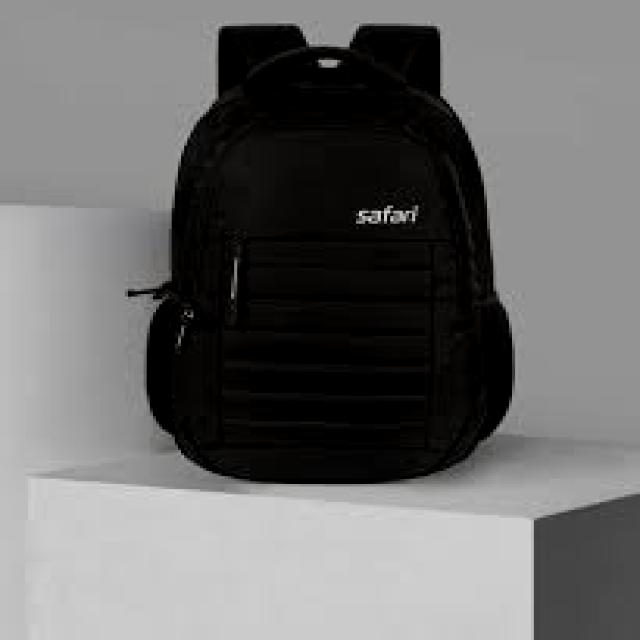backpack: (126, 22, 516, 485)
